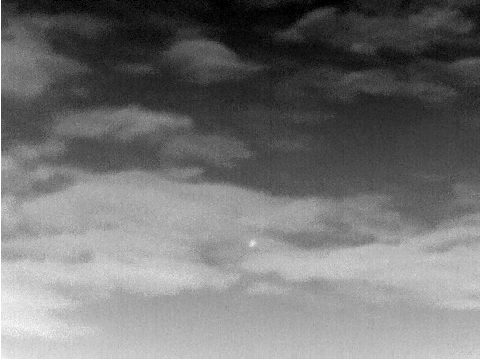dim target: (247, 238, 259, 250)
